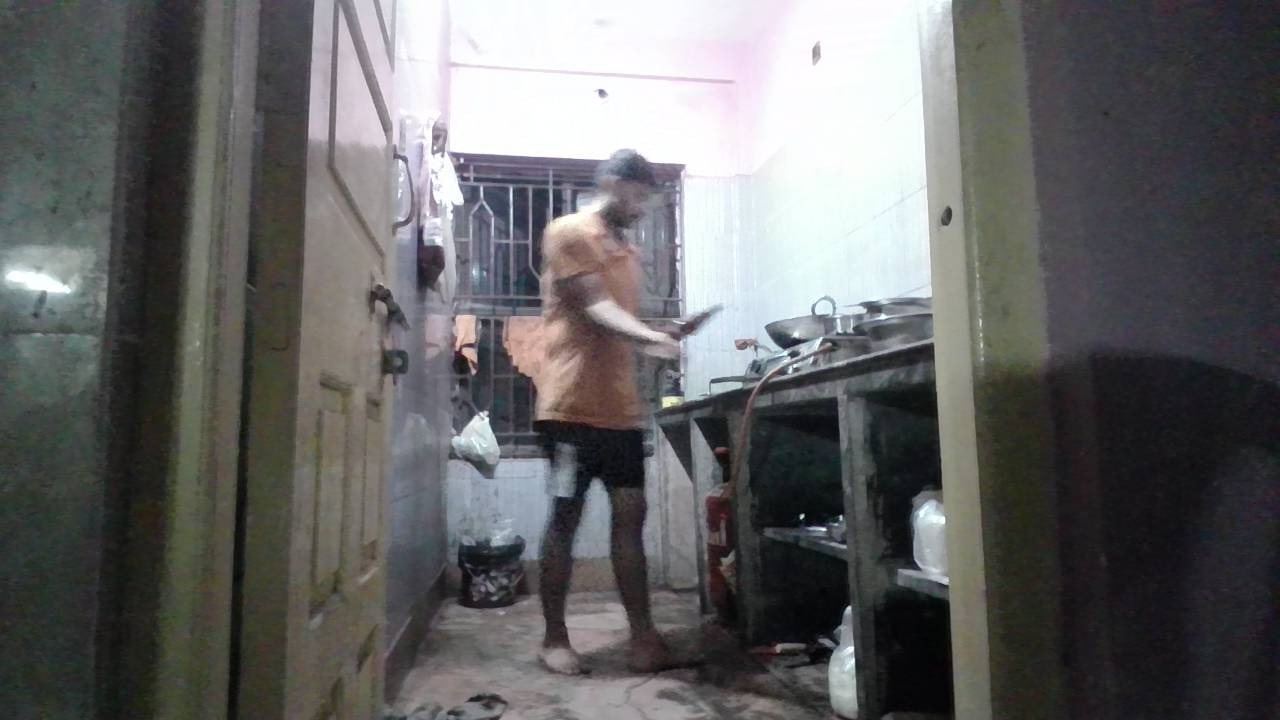red_box: (561, 384, 626, 426)
